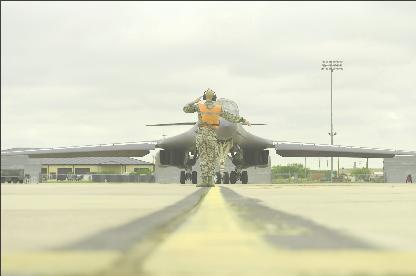AV8B: (1, 96, 415, 185)
